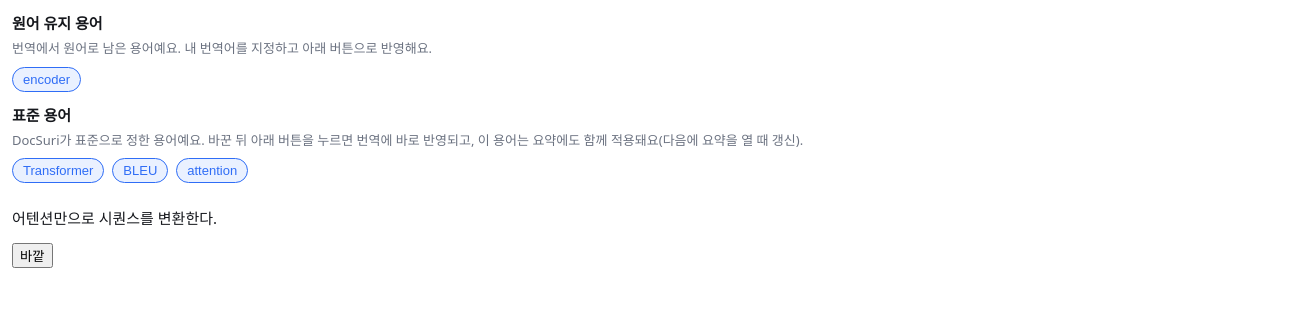
Test: GlossaryTermBadge (via TranslationView) › a mapping (attention) pre-fills the standard rendering, then stages under the strong button
The width and height of the screenshot is (1292, 335).
Step 1. Click the button "attention" → (212, 170), box left=176, top=158, right=248, bottom=183
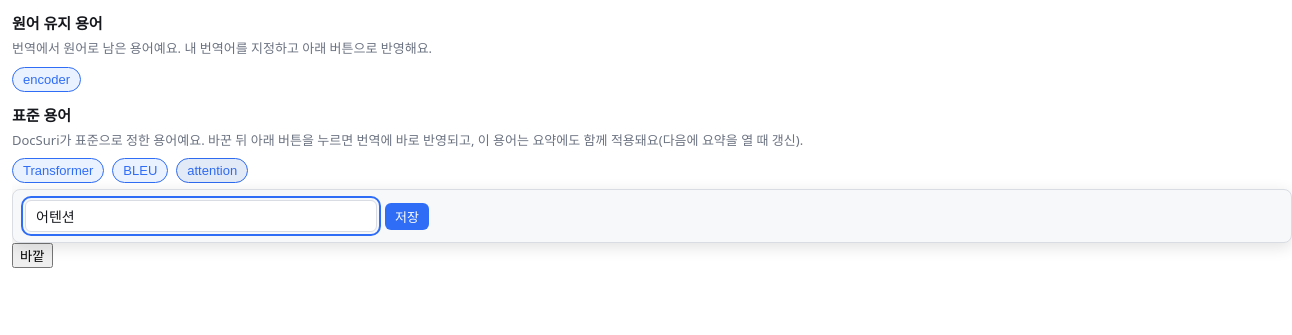
Expected: the field with test id "glossary-input" holds "어텐션"
Step 2. Replace the text in the field with test id "glossary-input" with "주목" → (201, 216), box left=25, top=200, right=377, bottom=232
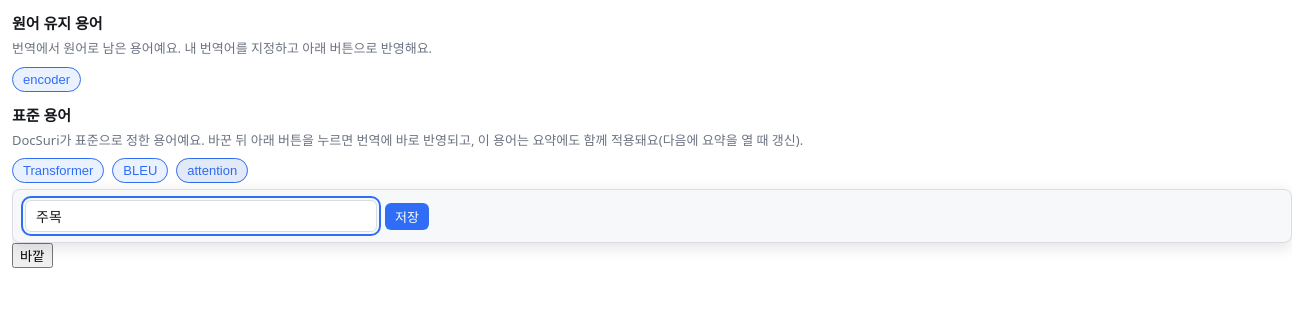
Step 3. Click the button with test id "glossary-save" → (407, 216), box left=385, top=202, right=429, bottom=230
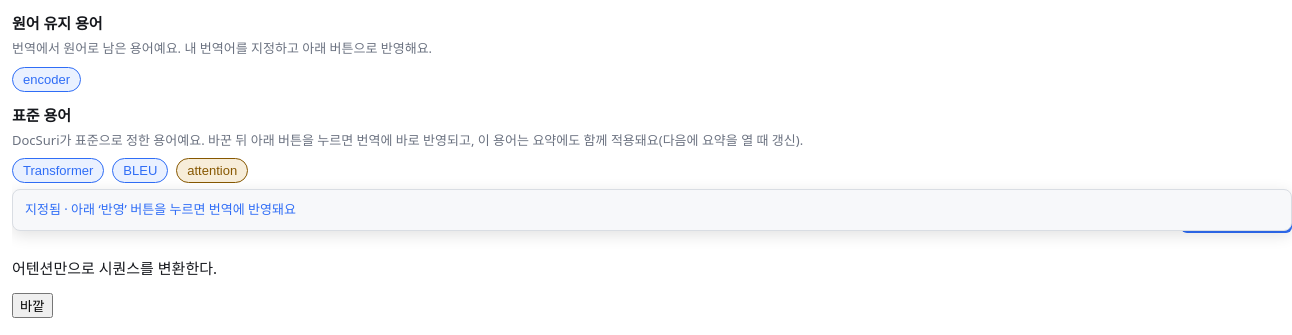
Expected: the message with test id "glossary-saved" shows "지정됨", left=25, top=200, right=296, bottom=218
Expected: the button with test id "glossary-apply-strong" is shown, left=1181, top=197, right=1291, bottom=233
